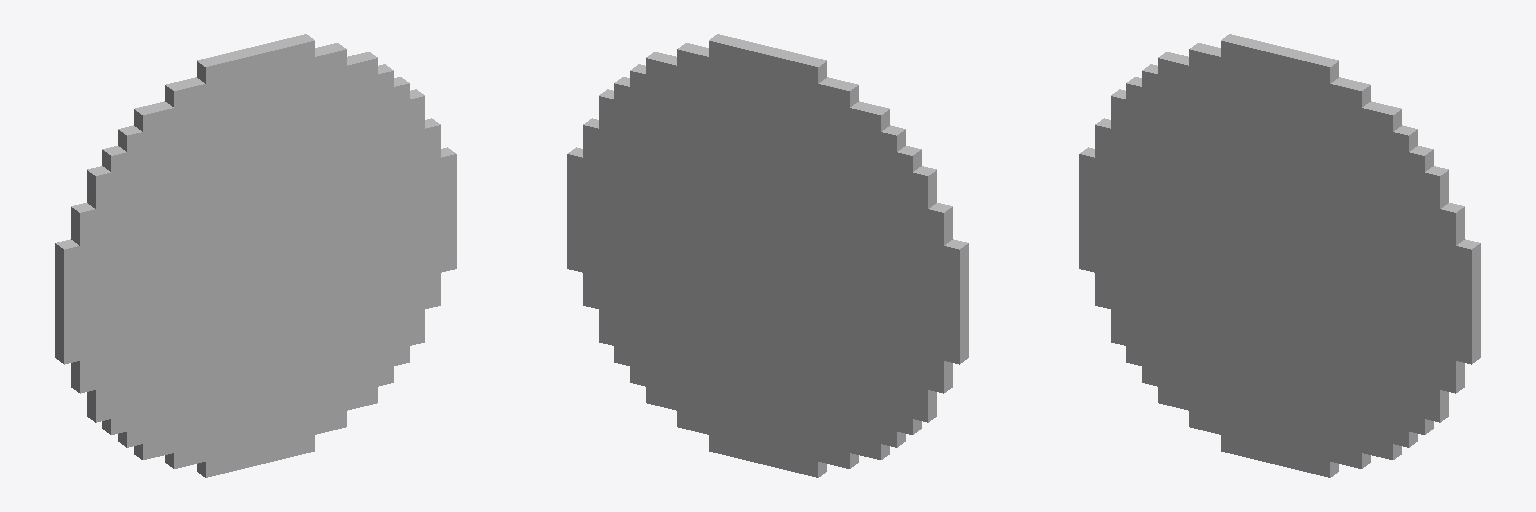
The model's file is GoldMedal.obj.
3 views of the same model, side by side, from view 1: azimuth 30°, elevation 25°; view 2: azimuth 150°, elevation 25°; view 3: azimuth 330°, elevation 25° (orthographic).
Parts seen in each view (by area): view 1: object 1; view 2: object 1; view 3: object 1.
Boxes of the visible parts, x1=… form: object 1: x1=55, y1=34, x2=456, y2=477; object 1: x1=567, y1=34, x2=968, y2=477; object 1: x1=1079, y1=34, x2=1480, y2=477.
Bounding box in the file's own units: 2.5 × 2.5 × 0.1.